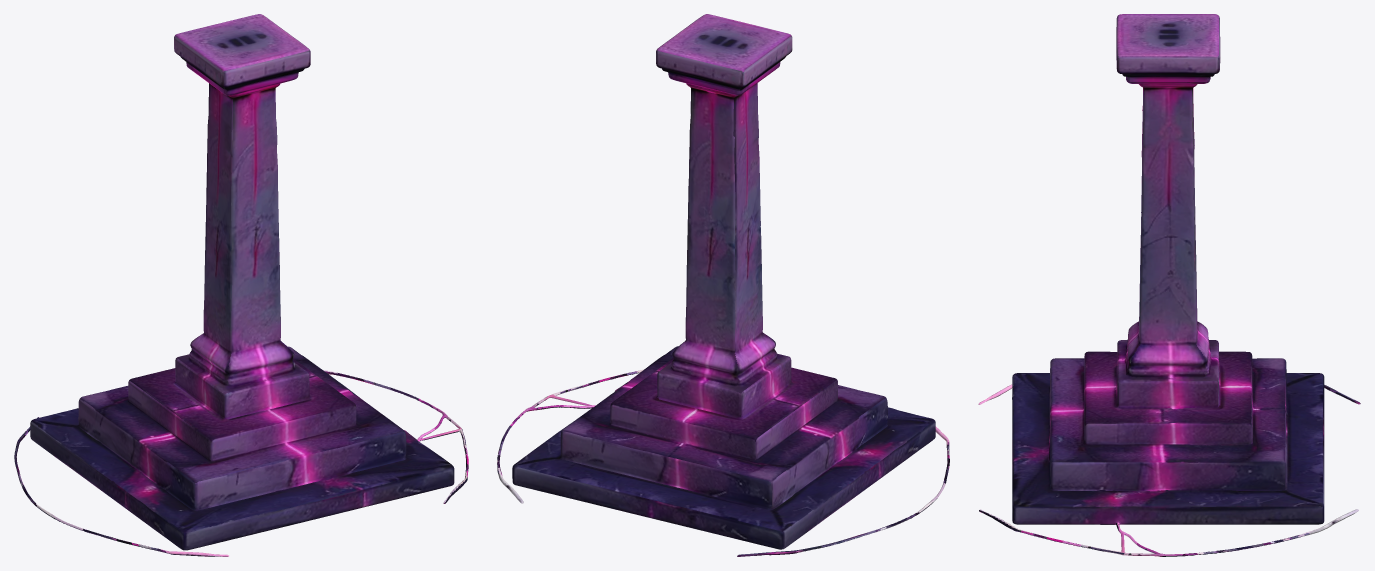
Rendered from support-column-generated-2026-05-17T18-36-48-079Z.medium.glb.
3 renders of one model, left to right at view 1: azimuth 30°, elevation 25°; view 2: azimuth 150°, elevation 25°; view 3: azimuth 270°, elevation 25°, orthographic.
Parts seen in each view (by area): view 1: temp_mesh.ply; view 2: temp_mesh.ply; view 3: temp_mesh.ply.
Boxes of the visible parts, bbox=[...] form: temp_mesh.ply: bbox=[14, 14, 468, 556]; temp_mesh.ply: bbox=[497, 14, 949, 556]; temp_mesh.ply: bbox=[978, 14, 1360, 556].
Bounding box in the file's own units: 1.97 × 1.97 × 1.61.
1 material, 1 textured.
